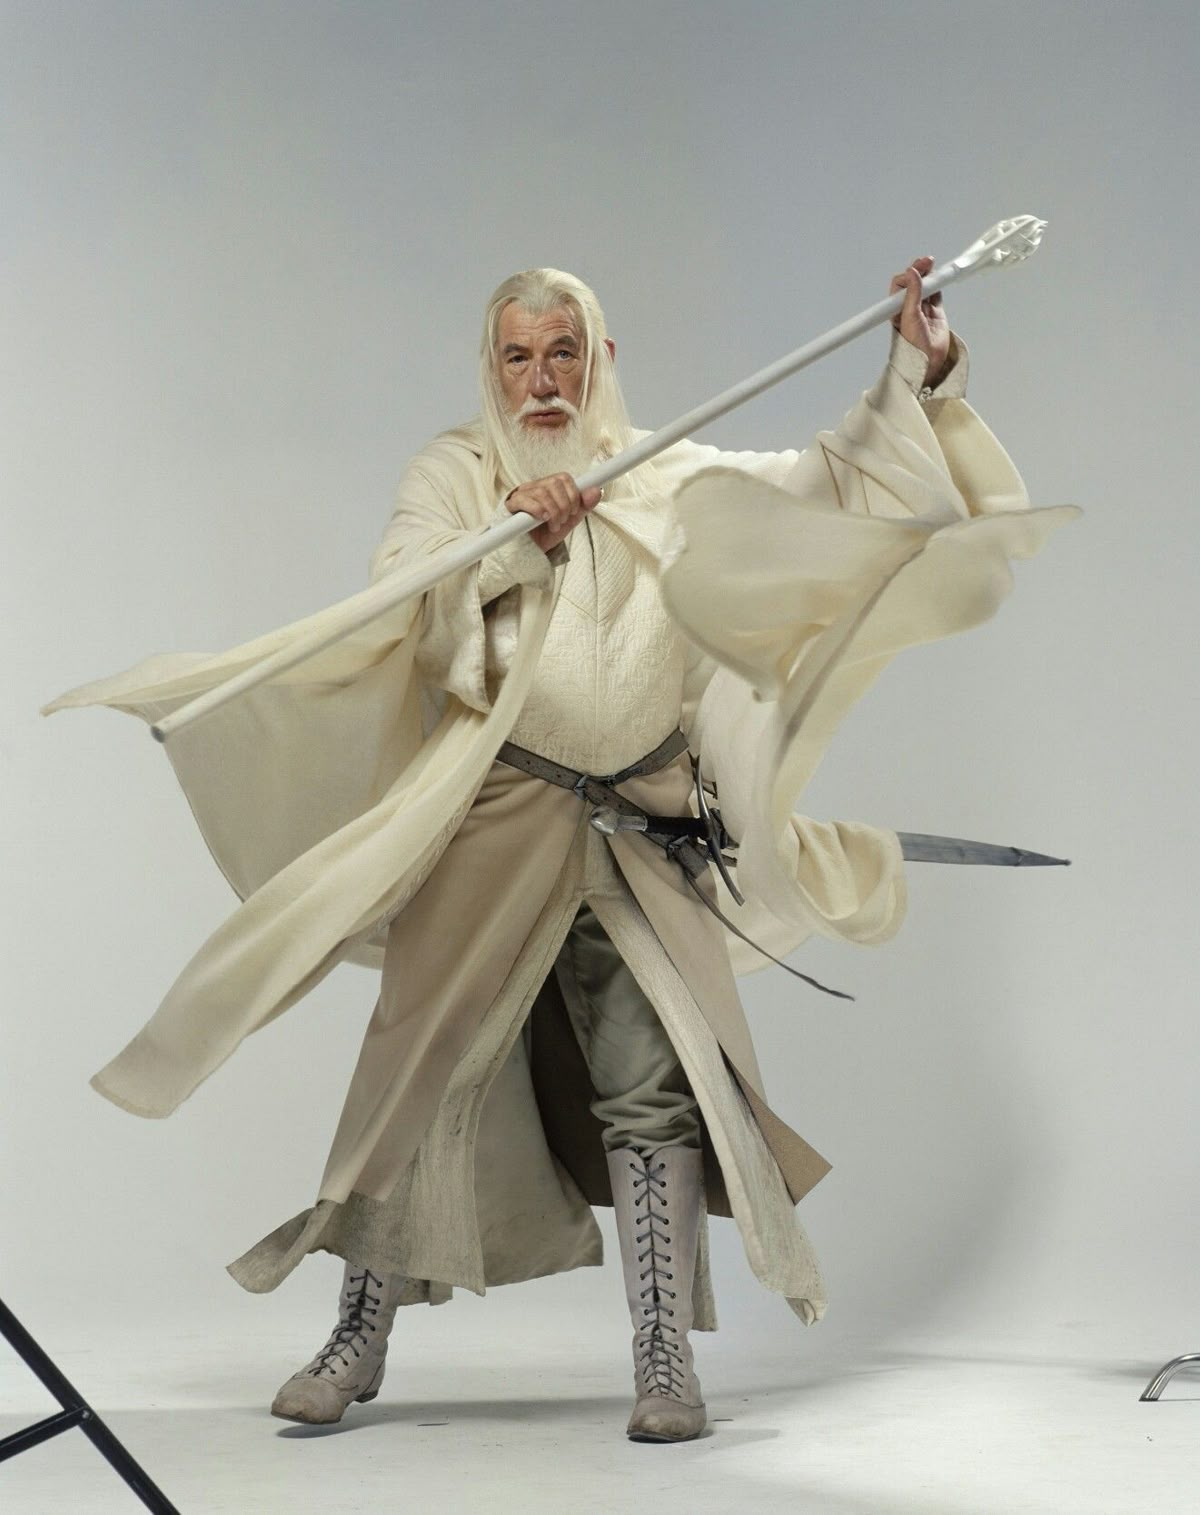gandalf gray: (37, 204, 1072, 1462)
